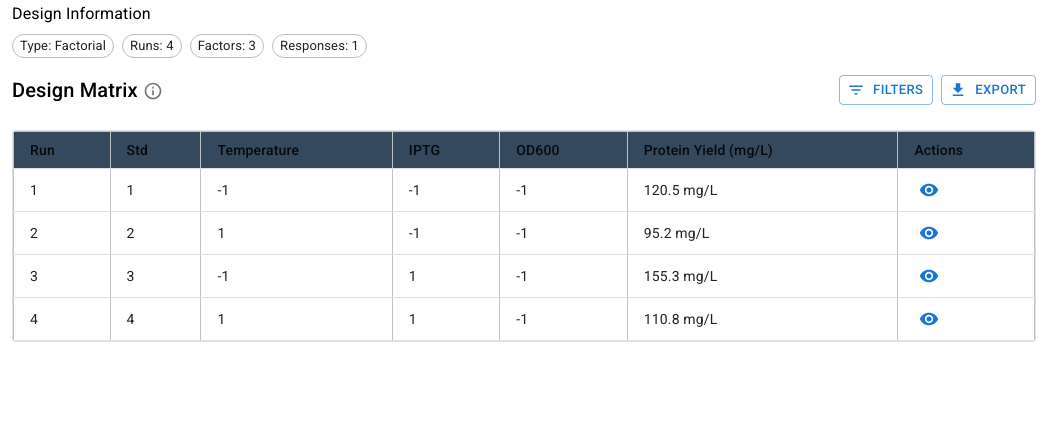
Scenario: ResponsiveDesignMatrix Component › toggles filter panel when filter button is clicked
The image size is (1048, 447).
Note: Find and click the filter button
Click the button "Filters" at (886,90), box [839,75,933,105]
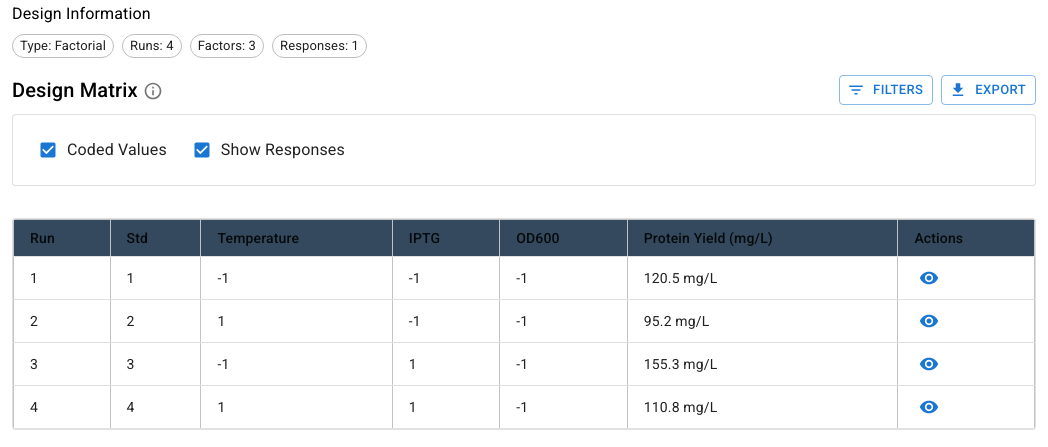
Result: the checkbox labelled "Coded Values" is shown at [38,140,167,160]
Result: the checkbox labelled "Show Responses" is shown at [192,140,345,160]
